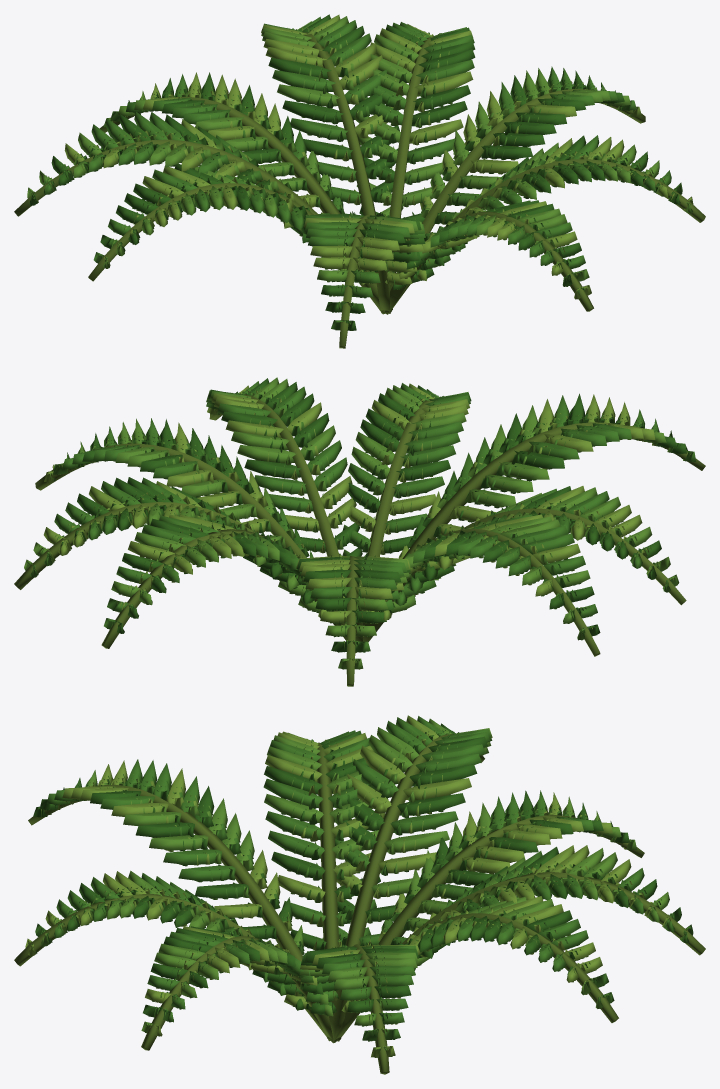
File: forest-fern-1.glb
3 renders of one model, top to bottom at view 1: azimuth 30°, elevation 25°; view 2: azimuth 150°, elevation 25°; view 3: azimuth 270°, elevation 25°, orthographic. The views are drawn at different scales.
Visible parts, largest first — view 1: forest-fern-1/0; view 2: forest-fern-1/0; view 3: forest-fern-1/0.
Boxes of the visible parts, x1,y1,x2,y2 form: forest-fern-1/0: (14,14,705,348); forest-fern-1/0: (14,377,705,686); forest-fern-1/0: (14,715,705,1074).
Size of the model in its own units: 2.98 by 0.9389 by 2.87.
